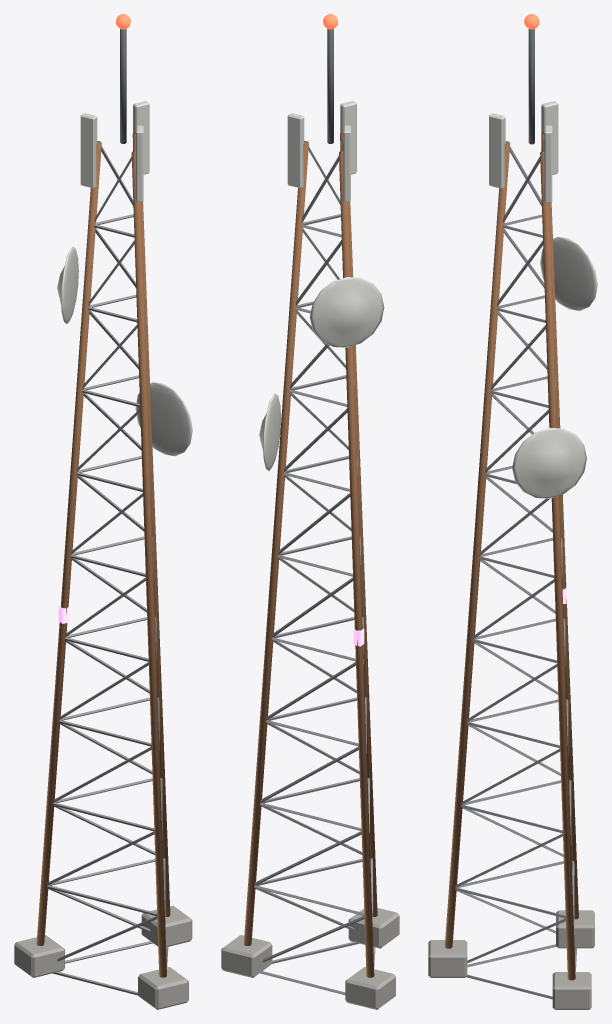
Rendered from v_radio_tower.glb.
3 views of the same model, side by side, from view 1: azimuth 30°, elevation 25°; view 2: azimuth 150°, elevation 25°; view 3: azimuth 270°, elevation 25° (orthographic).
Visible parts, largest first — view 1: Radio_tower; view 2: Radio_tower; view 3: Radio_tower.
Part boxes in pixels (x1,y1,x2,y2): Radio_tower: [14, 14, 192, 1009]; Radio_tower: [221, 14, 399, 1009]; Radio_tower: [428, 14, 597, 1009].
Size of what is drawn, in the model's own units: 2.83 by 16.19 by 2.6.
